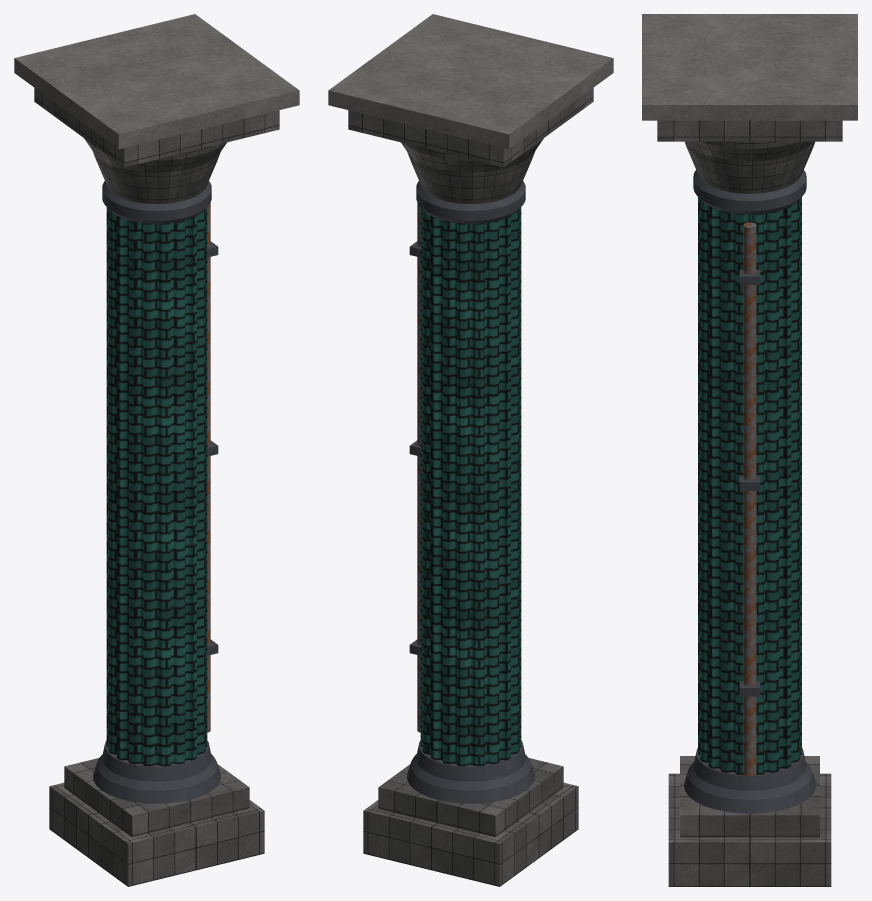
Rendered from column.obj.
3 renders of one model, left to right at view 1: azimuth 30°, elevation 25°; view 2: azimuth 150°, elevation 25°; view 3: azimuth 270°, elevation 25°, orthographic. The views are drawn at different scales.
Parts seen in each view (by area): view 1: column; view 2: column; view 3: column.
Boxes of the visible parts, <box> form: column: <box>14,14,299,886</box>; column: <box>328,14,613,886</box>; column: <box>642,14,857,886</box>.
Size of the model in its own units: 1.14 by 4.62 by 1.14.
